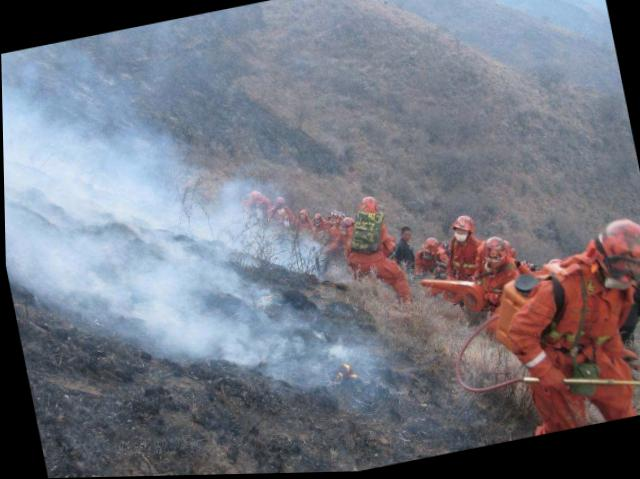fire: (329, 355, 360, 387)
